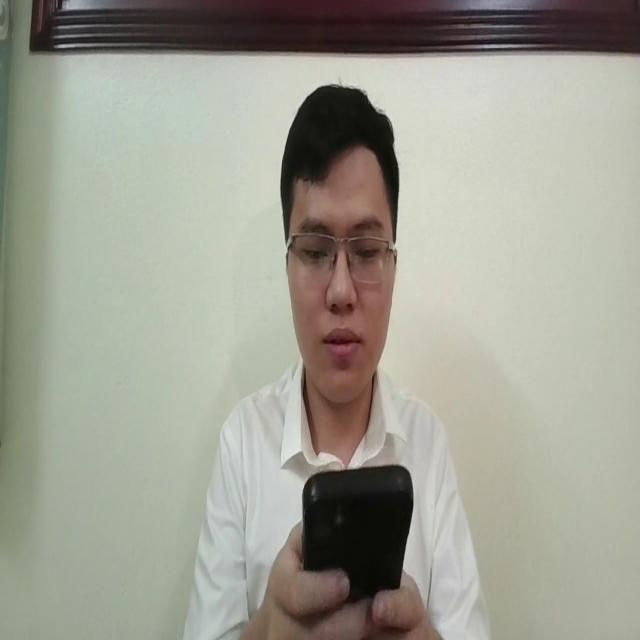phone: (299, 456, 411, 601)
student: (190, 81, 480, 640)
